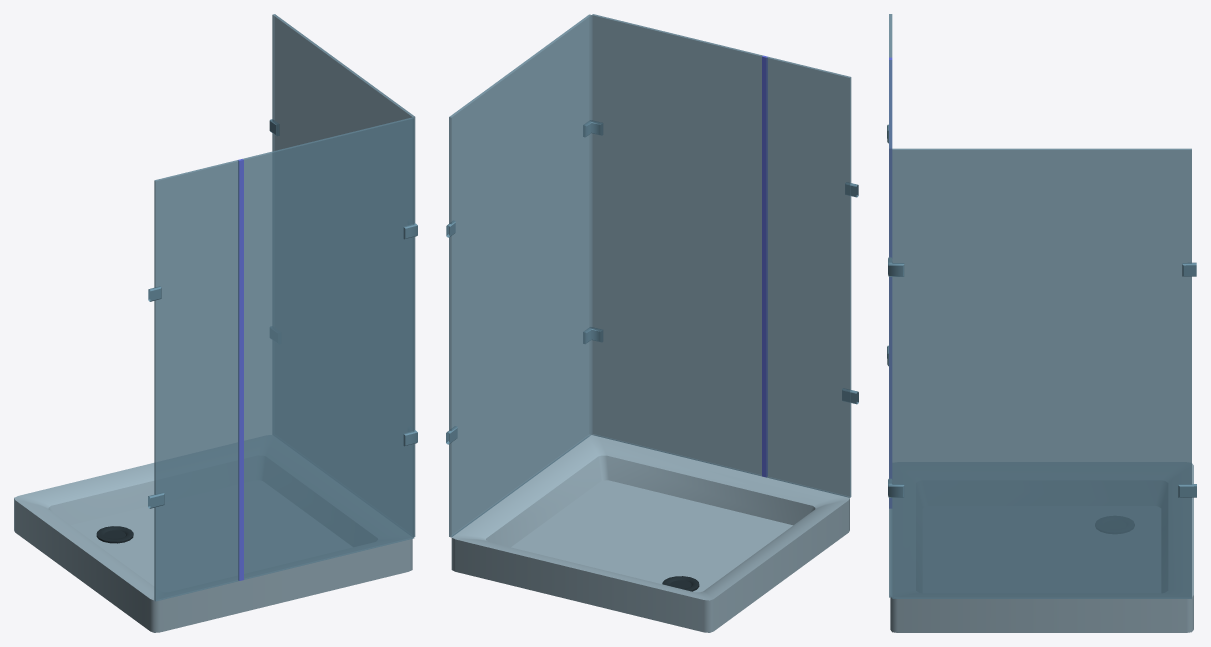
Rendered from Prop_shower2.FBX.
3 renders of one model, left to right at view 1: azimuth 30°, elevation 25°; view 2: azimuth 150°, elevation 25°; view 3: azimuth 270°, elevation 25°, orthographic. The views are drawn at different scales.
Parts seen in each view (by area): view 1: Box162, Box161; view 2: Box162, Box161; view 3: Box162, Box161.
Part boxes in pixels (box(x1,y1,x2,y2)): Box162: box(148, 14, 417, 601); Box161: box(14, 435, 412, 632); Box162: box(446, 14, 858, 537); Box161: box(451, 435, 849, 632); Box162: box(887, 14, 1196, 598); Box161: box(890, 462, 1193, 632).
Size of the model in its own units: 72.86 by 68.18 by 117.
